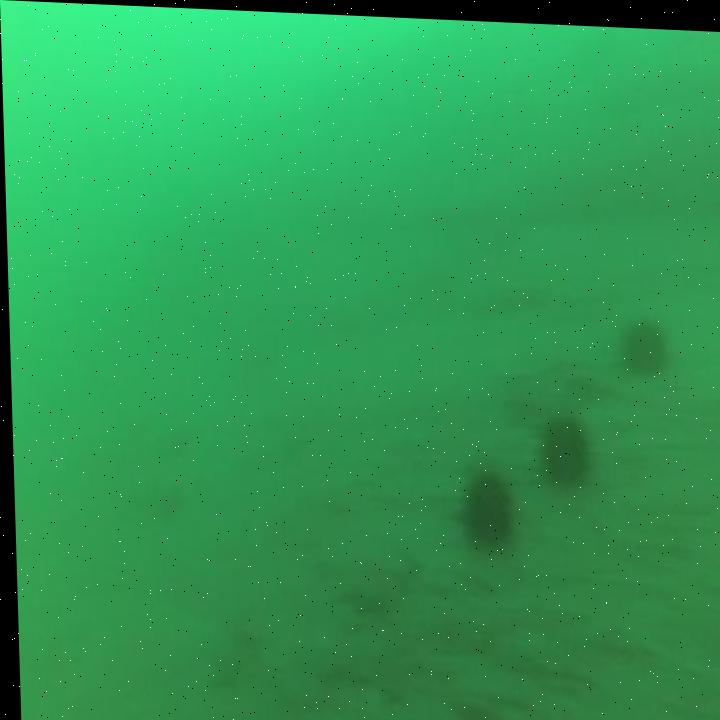echinus: (449, 442, 517, 549), (527, 397, 593, 499), (610, 300, 672, 384)
